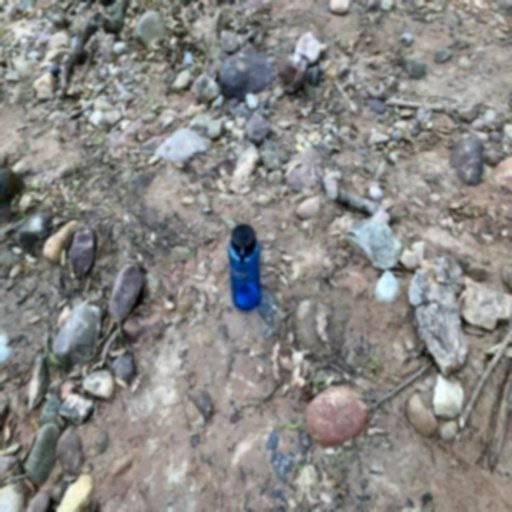bottle: (228, 224, 261, 310)
